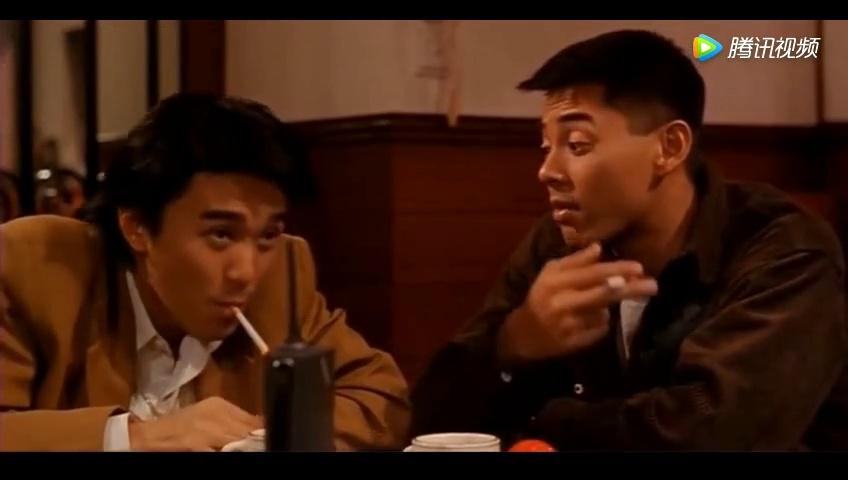smoke: (225, 294, 273, 358)
